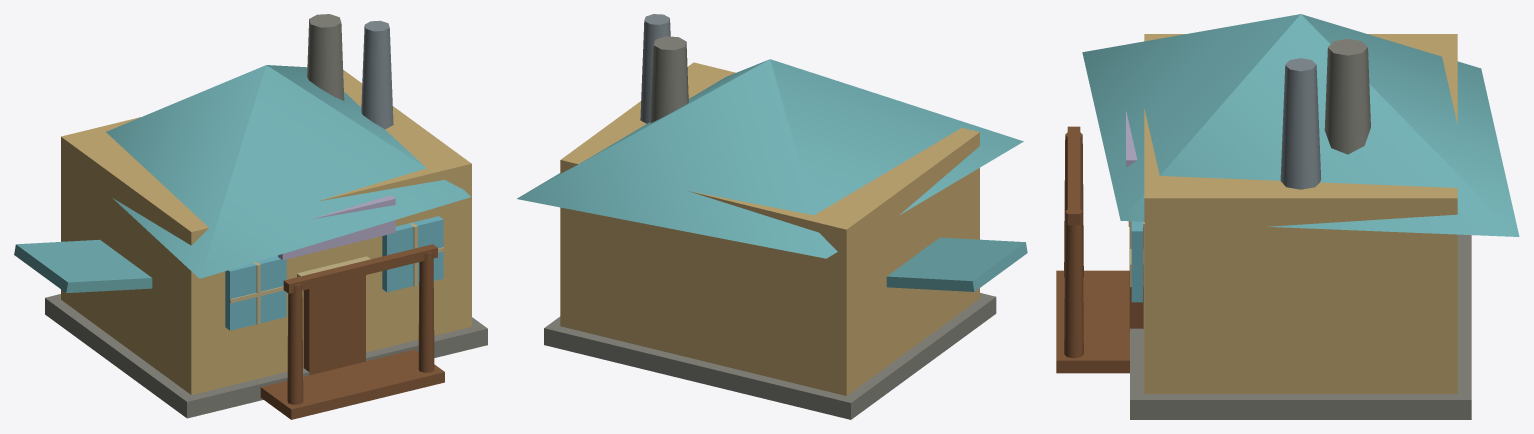
The model's file is blacksmith.glb.
3 views of the same model, side by side, from view 1: azimuth 30°, elevation 25°; view 2: azimuth 150°, elevation 25°; view 3: azimuth 270°, elevation 25° (orthographic). The views are drawn at different scales.
Visible parts, largest first — view 1: blacksmith_body, blacksmith_roof, blacksmith_foundation, porch, door, workshop_side_awning, window_left, workshop_stack, chimney, window_right, porch_beam, porch_post_145 (+2 smaller); view 2: blacksmith_body, blacksmith_roof, blacksmith_foundation, workshop_side_awning, chimney, workshop_stack; view 3: blacksmith_body, blacksmith_roof, blacksmith_foundation, porch, chimney, workshop_stack, porch_post_145, porch_beam, window_right, porch_post_-145, door.
Boxes of the visible parts, box(x1,y1,x2,y2) form: blacksmith_body: box(61, 70, 471, 394); blacksmith_roof: box(106, 65, 470, 278); blacksmith_foundation: box(45, 294, 487, 418); porch: box(260, 349, 444, 419); door: box(303, 275, 365, 375); workshop_side_awning: box(14, 239, 152, 293); window_left: box(225, 255, 286, 330); workshop_stack: box(361, 20, 393, 129); chimney: box(307, 14, 344, 100); window_right: box(382, 216, 443, 292); porch_beam: box(283, 244, 437, 293); porch_post_145: box(418, 251, 434, 372); blacksmith_body: box(560, 62, 979, 395); blacksmith_roof: box(517, 59, 1023, 258); blacksmith_foundation: box(544, 293, 996, 419); workshop_side_awning: box(886, 237, 1027, 291); chimney: box(650, 36, 688, 122); workshop_stack: box(640, 14, 670, 123); blacksmith_body: box(1144, 34, 1457, 393); blacksmith_roof: box(1082, 14, 1519, 236); blacksmith_foundation: box(1130, 224, 1471, 419); porch: box(1056, 270, 1129, 373); chimney: box(1324, 38, 1370, 154); workshop_stack: box(1280, 58, 1321, 189); porch_post_145: box(1064, 209, 1083, 358); porch_beam: box(1067, 126, 1080, 225); window_right: box(1131, 221, 1142, 302); porch_post_-145: box(1064, 132, 1083, 277); door: box(1129, 227, 1143, 331).
Size of what is drawn, in the model's own units: 8.49 by 5.86 by 7.39.
